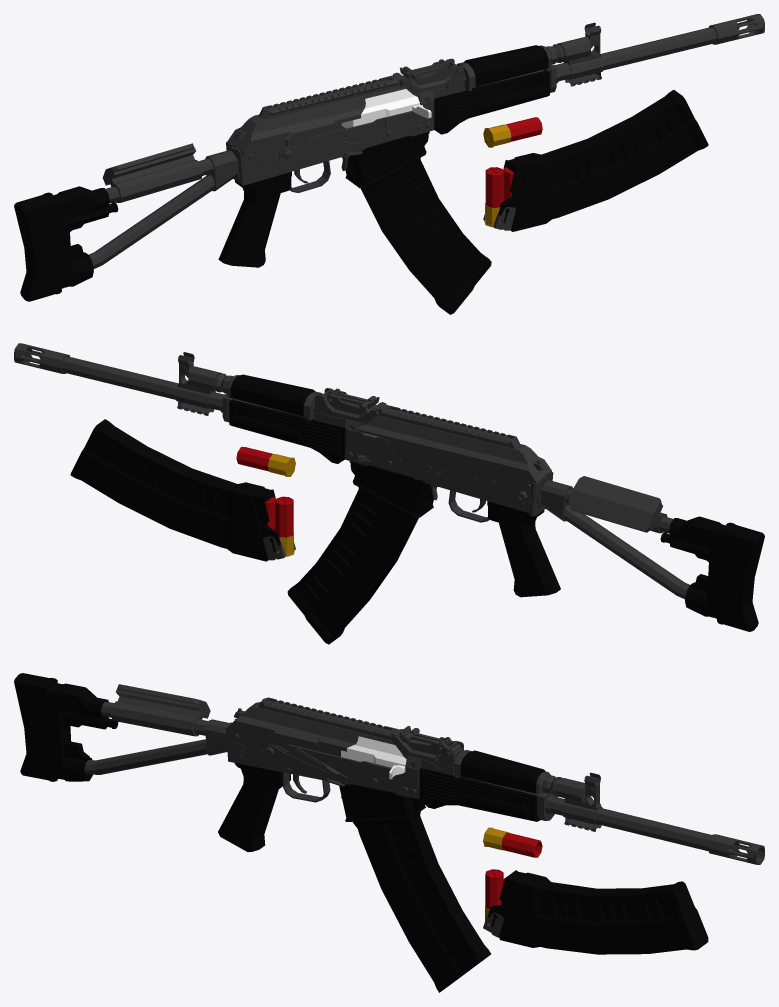
Rendered from saiga-12_ex._30.glb.
3 views of the same model, one above another, from view 1: azimuth 30°, elevation 25°; view 2: azimuth 150°, elevation 25°; view 3: azimuth 330°, elevation 25° (orthographic).
Visible parts, largest first — view 1: saiga 12_7, 1276 saiga mag 10rnd_2, saiga stoc_3, 1276 saiga mag empty 10rnd_1, saiga bolt_5, saiga mode_4, saiga muzzle_9, Object_4, Object_5; view 2: saiga 12_7, 1276 saiga mag 10rnd_2, saiga stoc_3, 1276 saiga mag empty 10rnd_1, saiga muzzle_9, Object_4; view 3: saiga 12_7, 1276 saiga mag 10rnd_2, saiga stoc_3, 1276 saiga mag empty 10rnd_1, saiga bolt_5, saiga mode_4, saiga muzzle_9, Object_4.
Boxes of the visible parts, x1,y1,x2,y2 form: saiga 12_7: (218,22,717,267); 1276 saiga mag 10rnd_2: (483,90,708,231); saiga stoc_3: (14,143,239,301); 1276 saiga mag empty 10rnd_1: (344,128,491,314); saiga bolt_5: (341,89,431,128); saiga mode_4: (279,138,363,162); saiga muzzle_9: (709,14,764,44); Object_4: (505,117,542,141); Object_5: (483,124,511,147); saiga 12_7: (61,352,560,597); 1276 saiga mag 10rnd_2: (70,419,295,561); saiga stoc_3: (531,476,764,631); 1276 saiga mag empty 10rnd_1: (287,486,431,644); saiga muzzle_9: (14,343,69,373); Object_4: (236,446,272,471); saiga 12_7: (218,697,712,852); 1276 saiga mag 10rnd_2: (483,869,708,954); saiga stoc_3: (14,673,229,781); 1276 saiga mag empty 10rnd_1: (352,811,490,992); saiga bolt_5: (341,736,406,779); saiga mode_4: (263,742,347,786); saiga muzzle_9: (707,834,764,864); Object_4: (501,833,542,857).
Size of the model in its own units: 11.29 by 3.63 by 0.9098.
